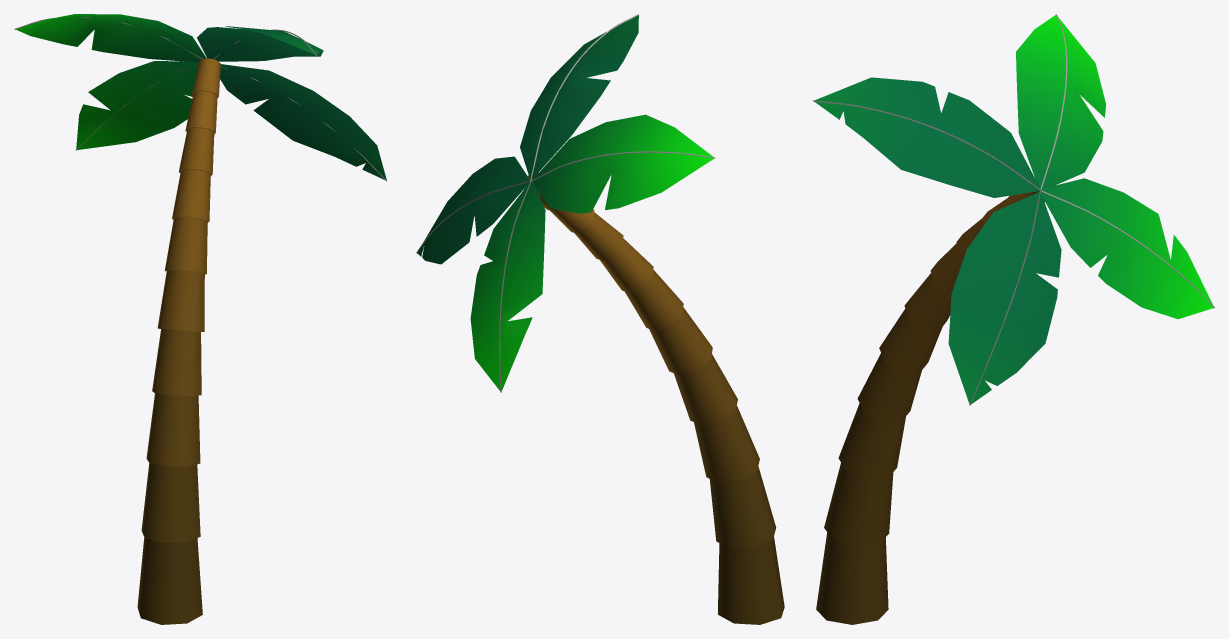
The model's file is PalmTree450.FBX.
3 views of the same model, side by side, from view 1: azimuth 30°, elevation 25°; view 2: azimuth 150°, elevation 25°; view 3: azimuth 270°, elevation 25° (orthographic). The views are drawn at different scales.
Visible parts, largest first — view 1: 4; view 2: 4; view 3: 4.
Part boxes in pixels (bbox=[...]): 4: bbox=[16, 14, 386, 624]; 4: bbox=[417, 15, 784, 624]; 4: bbox=[814, 15, 1213, 624].
Bounding box in the file's own units: 495 × 778 × 484.
Materials: 10 (9 with a texture image).
